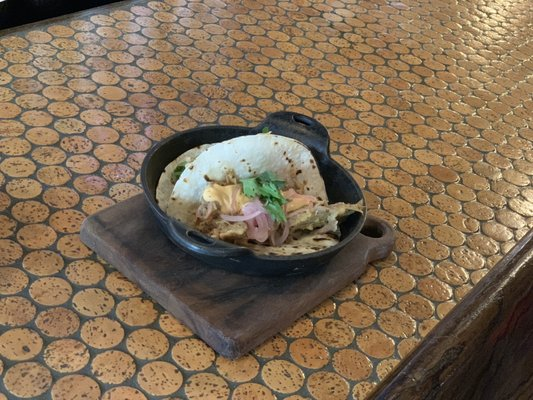sushi: (139, 114, 373, 278)
